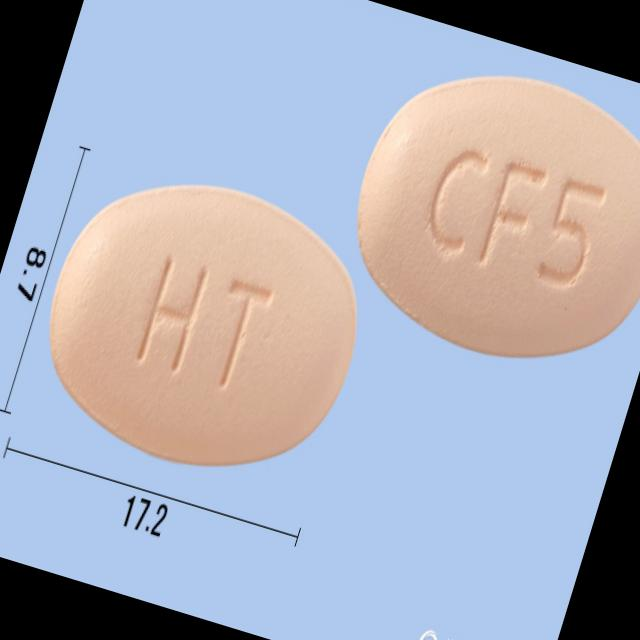Crafroxin Tab: (15, 146, 389, 506), (323, 36, 640, 394)
